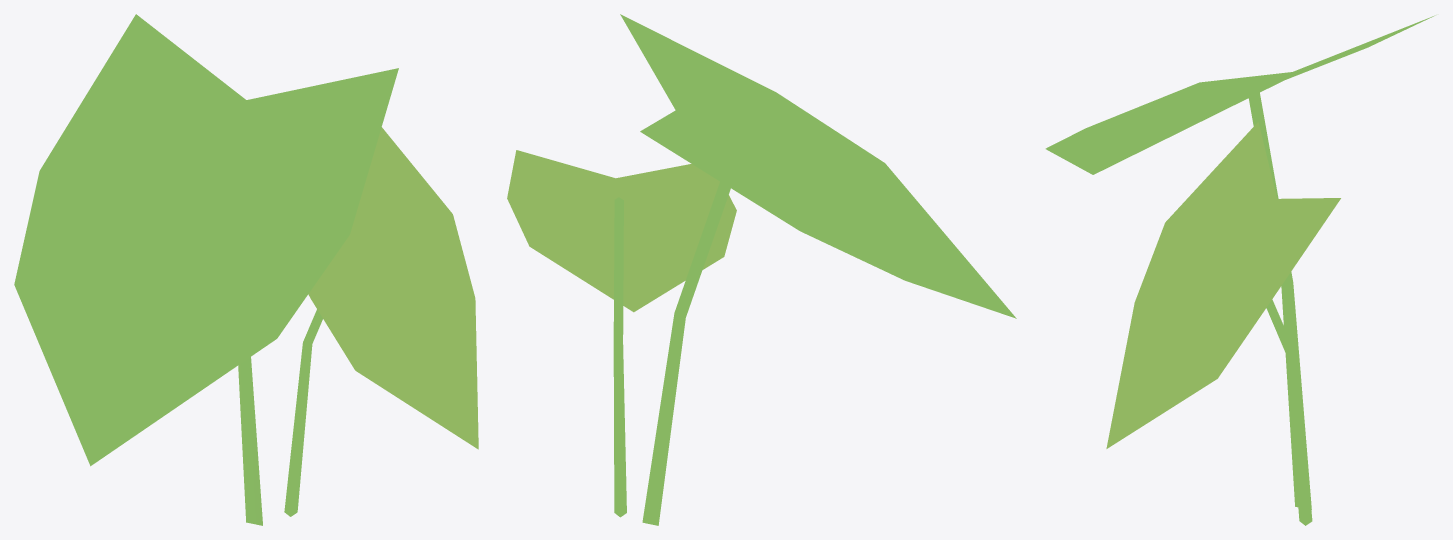
File: Plant_c_OneS_02.fbx
The picture shows the model from 3 angles, left to right: view 1: azimuth 30°, elevation 25°; view 2: azimuth 150°, elevation 25°; view 3: azimuth 270°, elevation 25°; orthographic projection. The views are drawn at different scales.
Parts seen in each view (by area): view 1: Plant_c_OneS_02; view 2: Plant_c_OneS_02; view 3: Plant_c_OneS_02.
Part boxes in pixels (bbox=[...]): Plant_c_OneS_02: bbox=[14, 14, 478, 525]; Plant_c_OneS_02: bbox=[507, 14, 1016, 525]; Plant_c_OneS_02: bbox=[1045, 15, 1435, 525].
Bounding box in the file's own units: 0.561 × 0.5642 × 0.4316.
